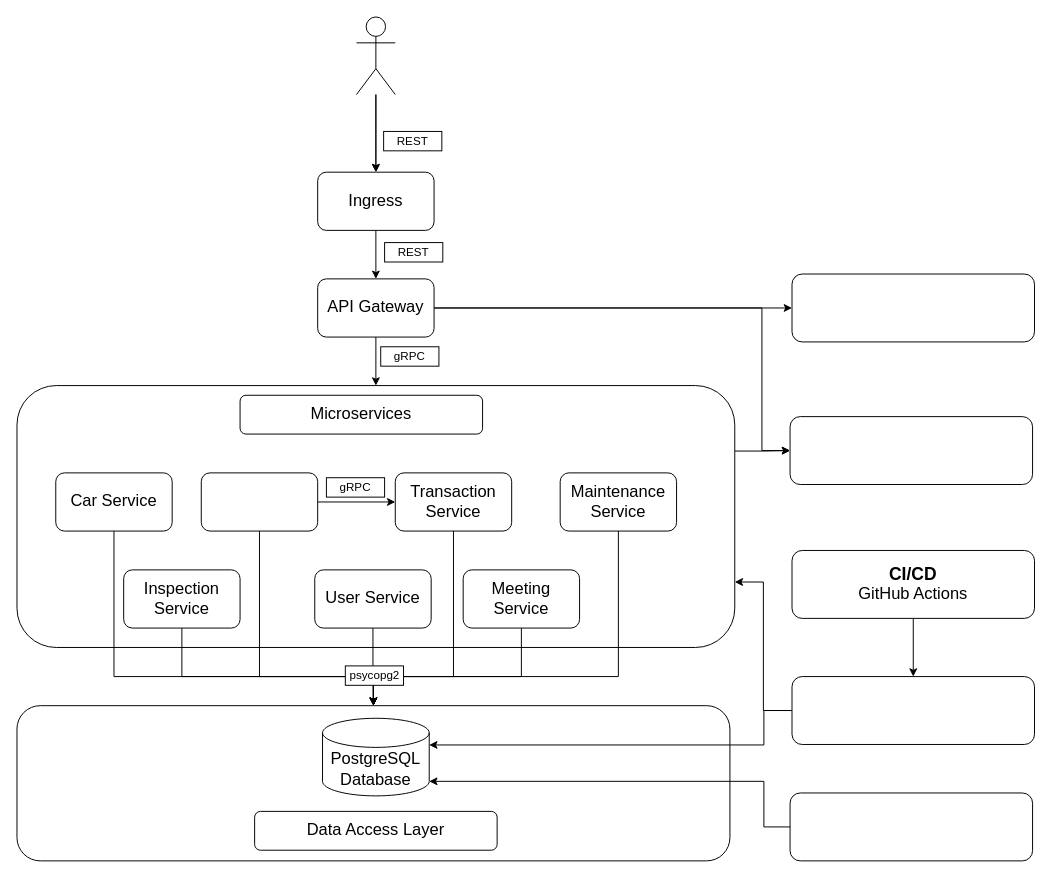
This 1051x878 diagram has some shape labels left out. The centre of each missing label's shape, as x and y in pixels:
Authentication Auth0: the point at 913,307
Car Listing Service: the point at 259,501
Client: the point at 375,55
Dataset Storage Google Cloud Buckets: the point at 911,826
Logs Prometheus / Grafana: the point at 911,450
Registry DockerHub: the point at 913,710
